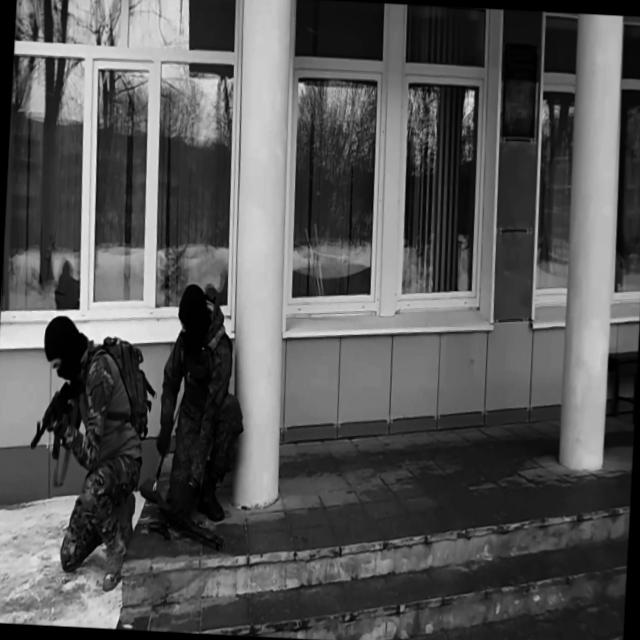gun: (136, 476, 228, 554), (30, 376, 80, 460), (148, 516, 174, 545)
person with a gun: (24, 313, 156, 593), (137, 281, 251, 553)
